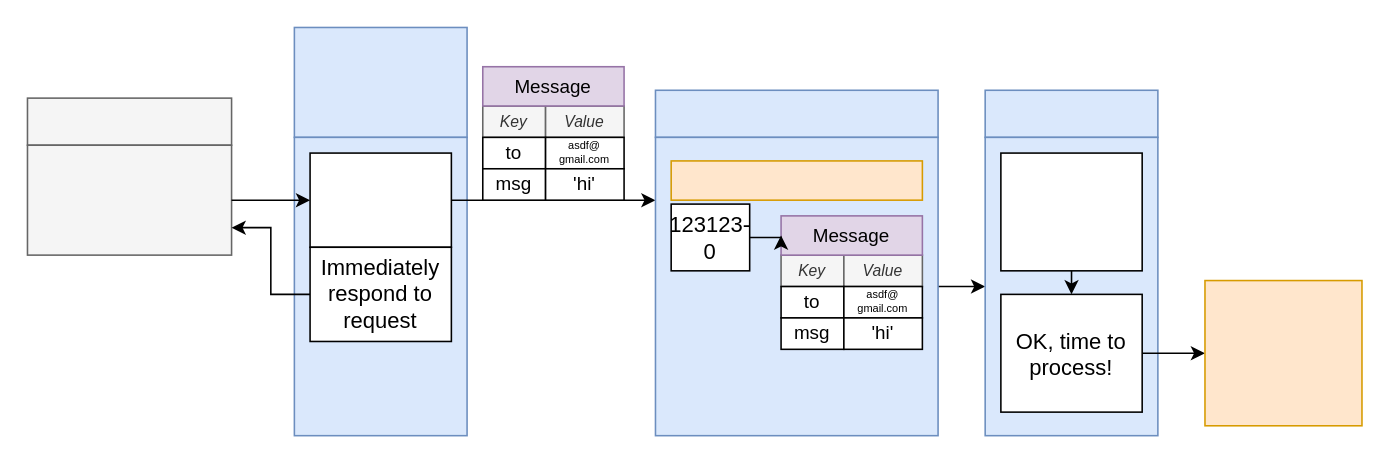
The diagram is 1389 pixels wide and 463 high, and some of its shapes have lost their labels. The centre of each missing label's shape, as x and y in pixels:
...Wait for an element to be added to the stream: the point at 1070,211
Queue up a 'job': the point at 380,199
Redis: the point at 796,113
Request: the point at 129,121
Send an email to 'asdf@gmail.com': the point at 129,199
Server (Message Producer): the point at 380,81
Stream: the point at 796,179
Third Party Email API: the point at 1282,352
Worker: the point at 1071,113
